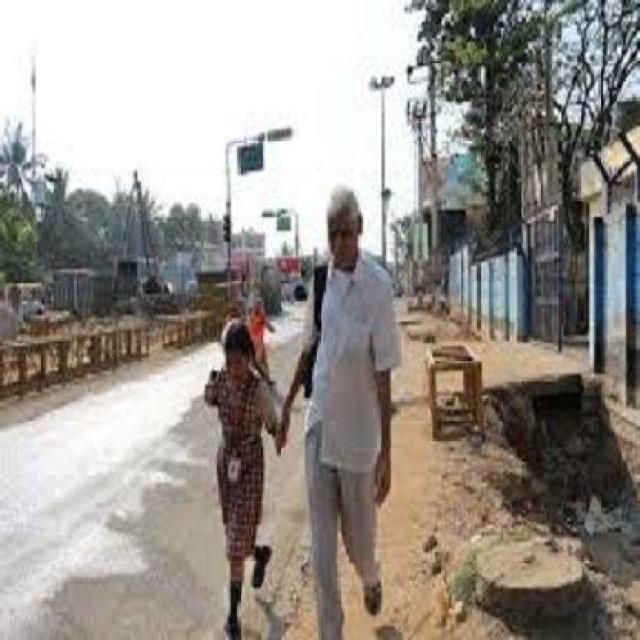Person: (287, 182, 398, 638), (191, 318, 284, 636)
